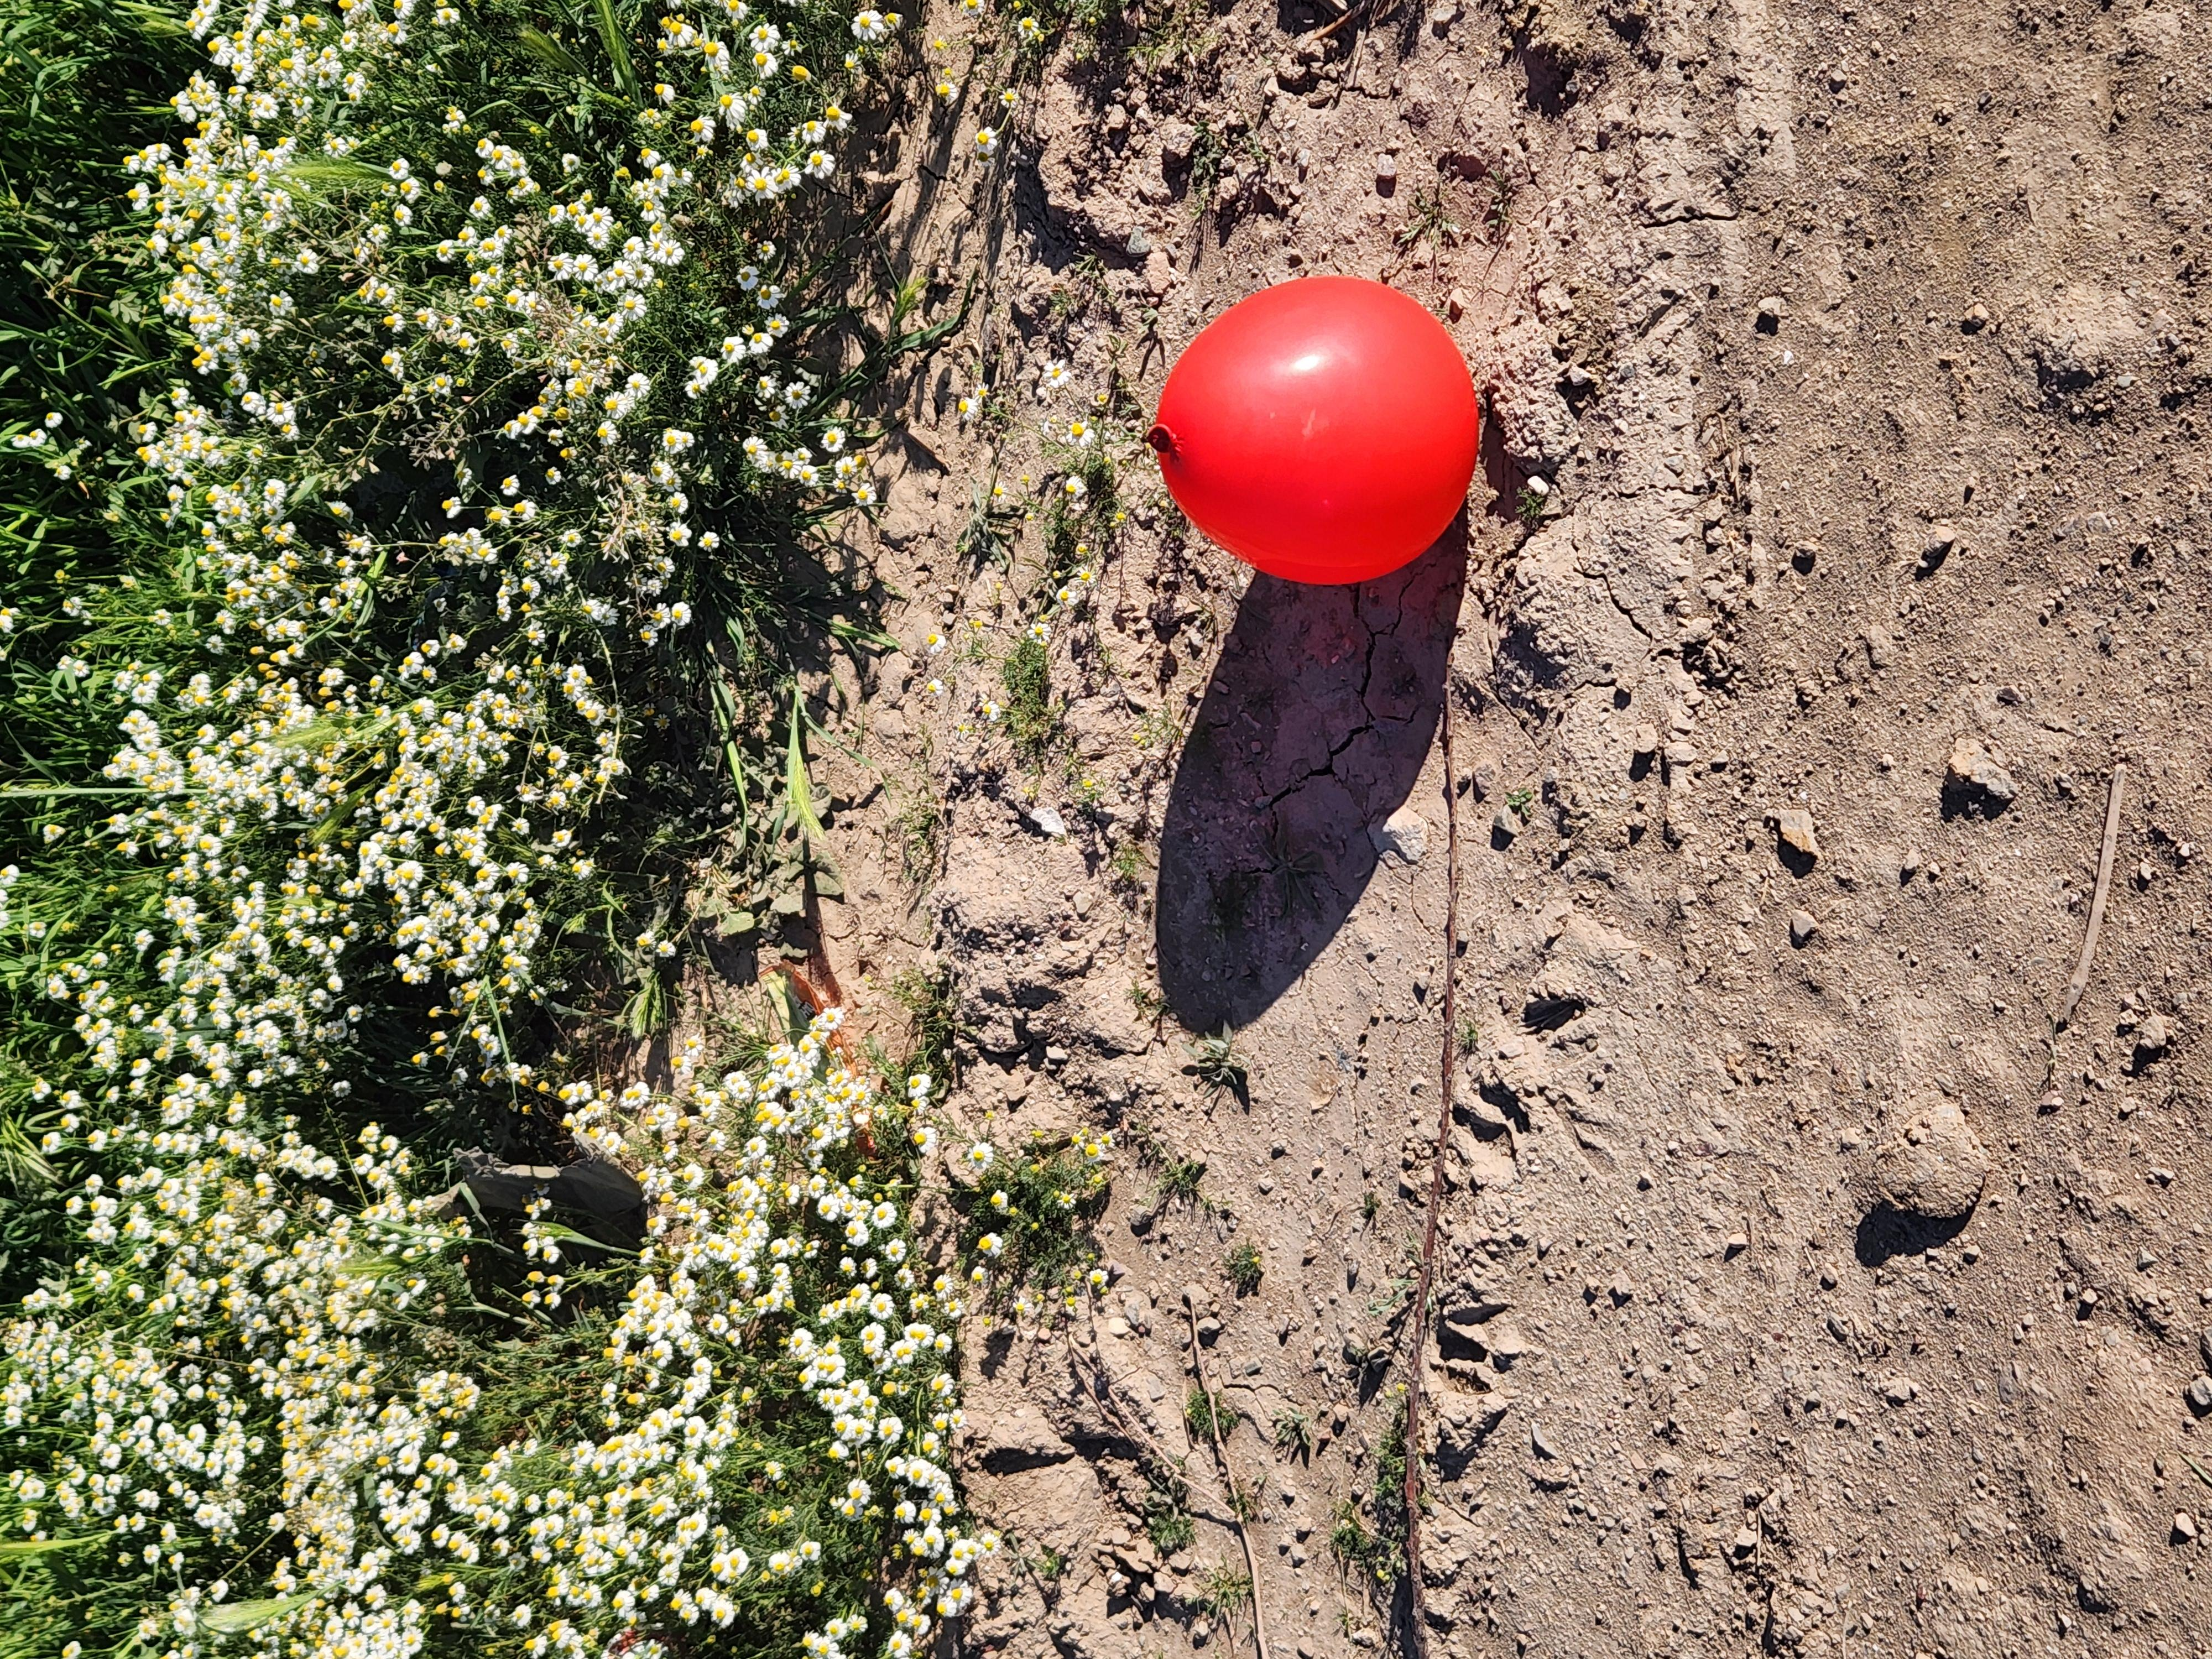red: (1395, 847, 1858, 1136)
